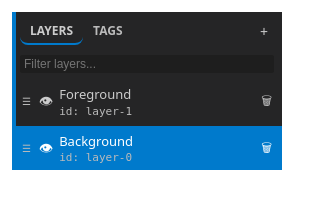
Test: LayersPanel › context menu › disables "Merge Down" for the bottom layer
This screenshot has width=332, height=215.
Note: layer-0 is the bottom layer. In reversed display, it's last.
Right-click the element with test id "layer-row-layer-0": (147, 148) [12,126,282,170]
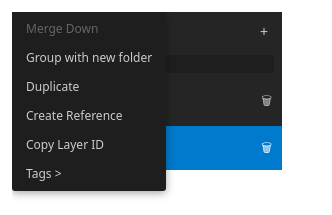
Check: the button with test id "context-merge-down" is disabled, box [14,14,164,43]
